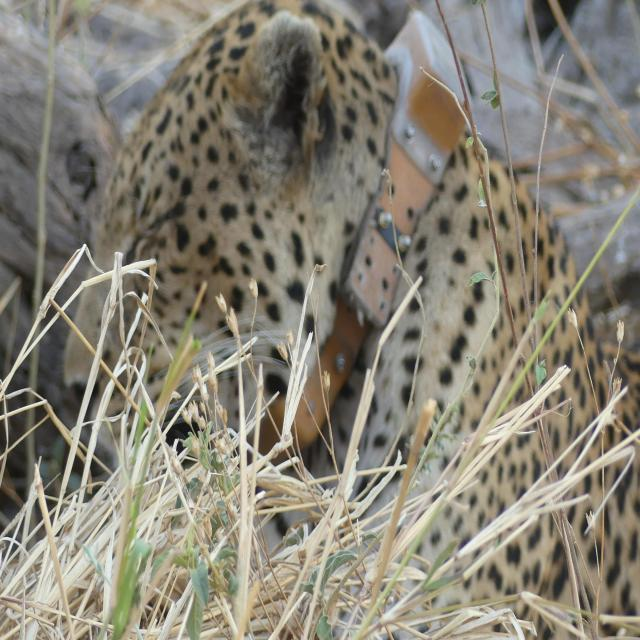Leopard: (63, 17, 639, 623)
